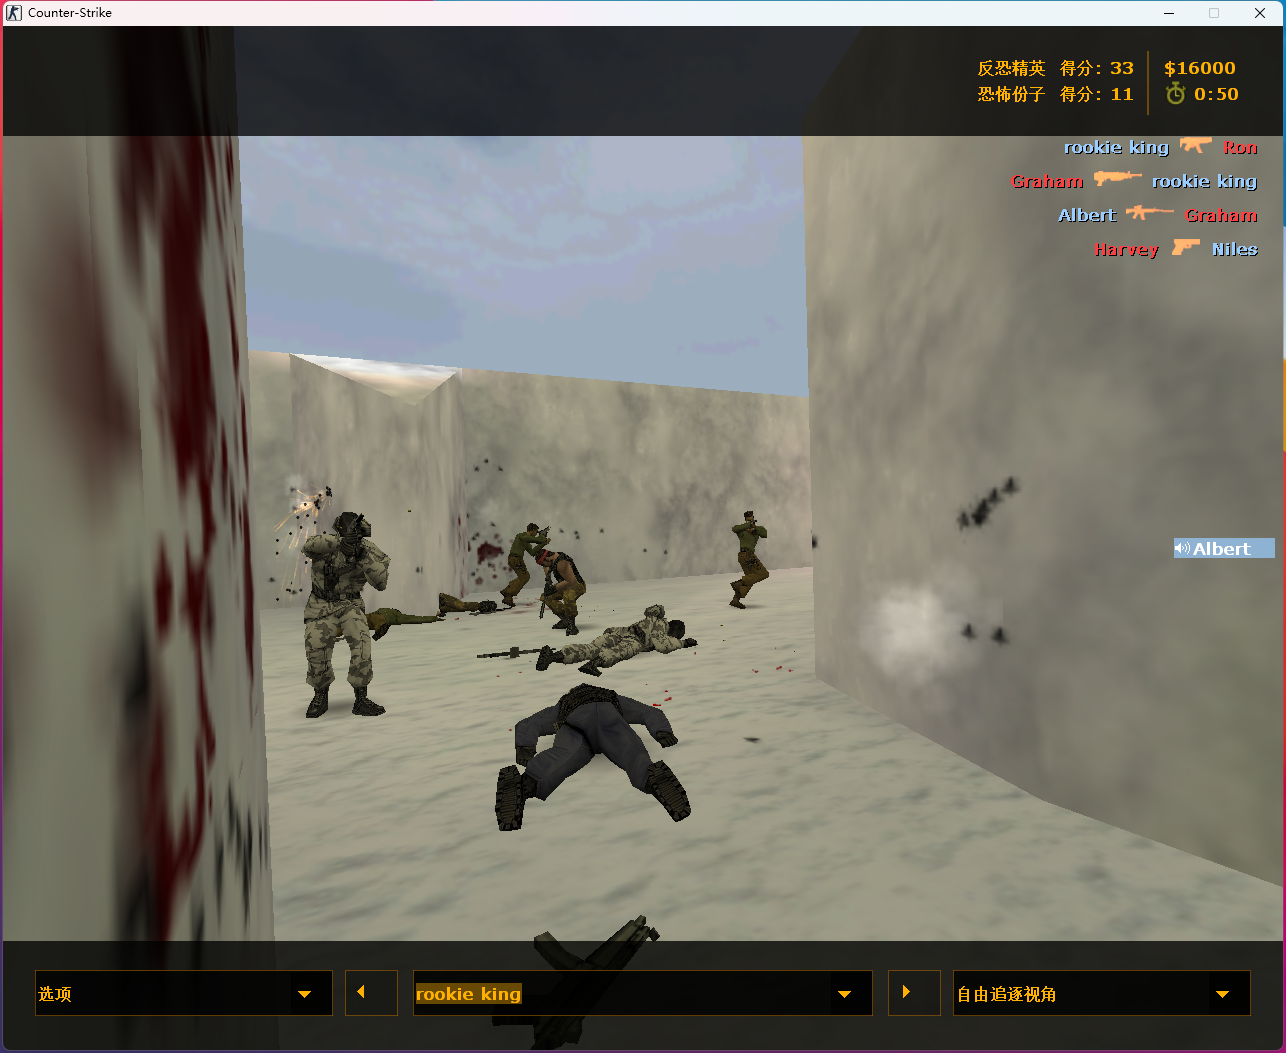T: (302, 513, 385, 720), (533, 546, 585, 636), (499, 521, 549, 607), (727, 509, 769, 609)
dead: (489, 683, 697, 832), (534, 606, 702, 677), (430, 591, 509, 618), (358, 610, 441, 634)
weapon: (473, 647, 546, 661)
